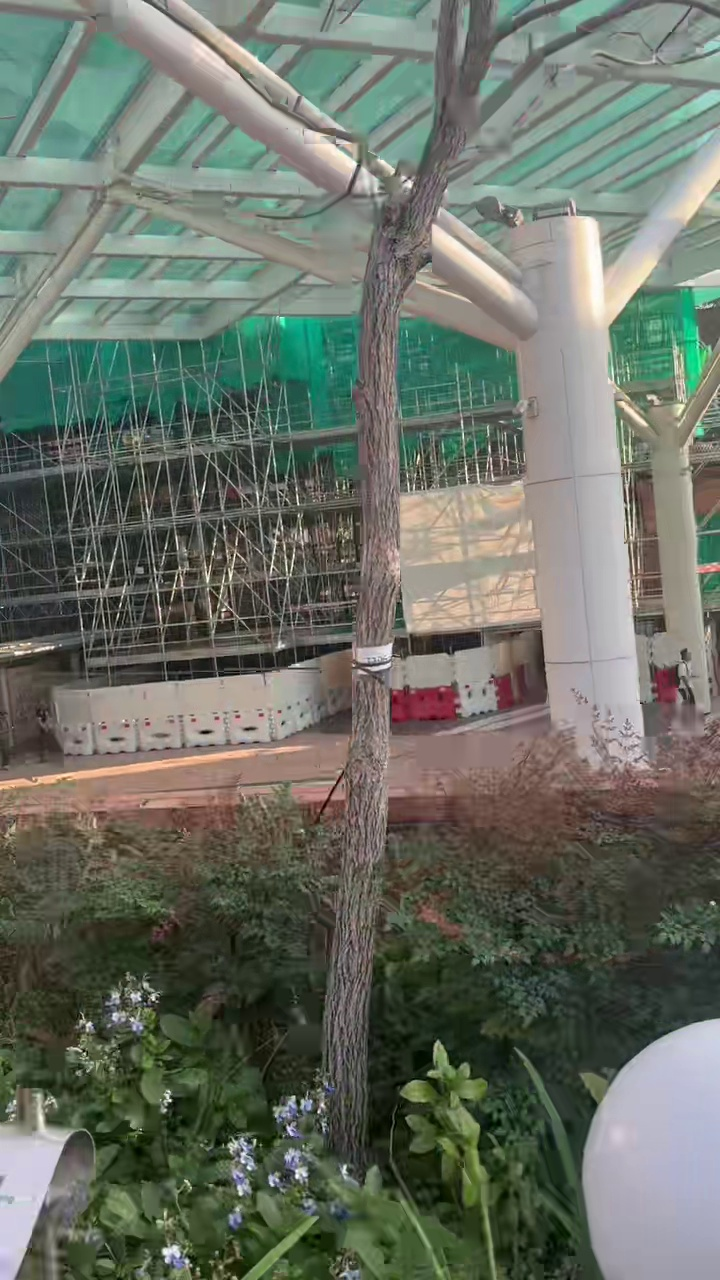Tabebuia chrysantha: (323, 0, 673, 1163)
